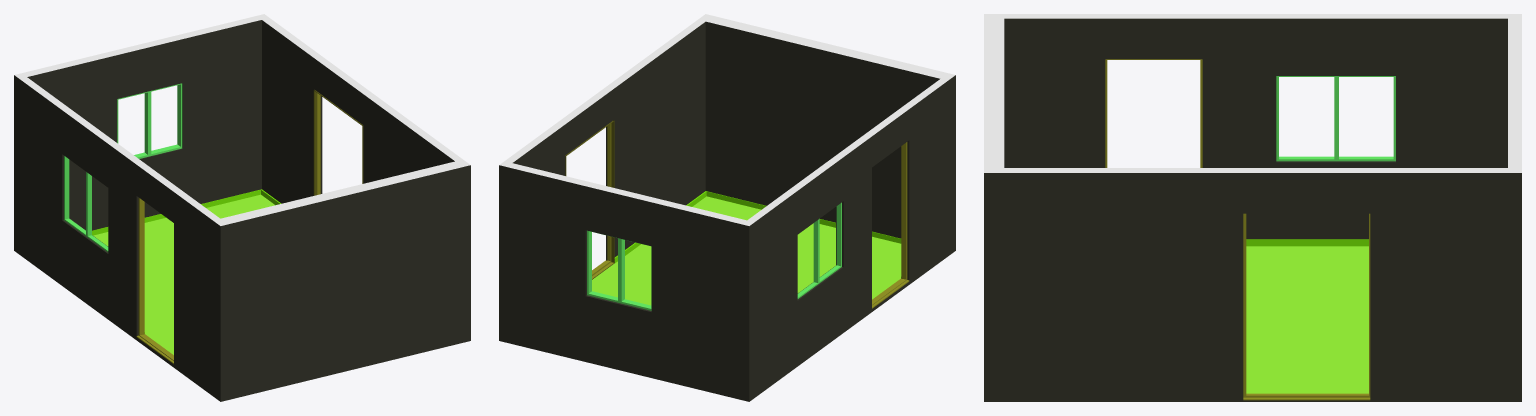
File: paltanaviciu 23.fbx
3 renders of one model, left to right at view 1: azimuth 30°, elevation 25°; view 2: azimuth 150°, elevation 25°; view 3: azimuth 270°, elevation 25°, orthographic. The views are drawn at different scales.
Parts seen in each view (by area): view 1: Model; view 2: Model; view 3: Model.
Boxes of the visible parts, x1,y1,x2,y2 form: Model: (14,14,470,401); Model: (499,14,955,401); Model: (984,14,1521,401).
Size of the model in its own units: 156 by 105 by 223.
